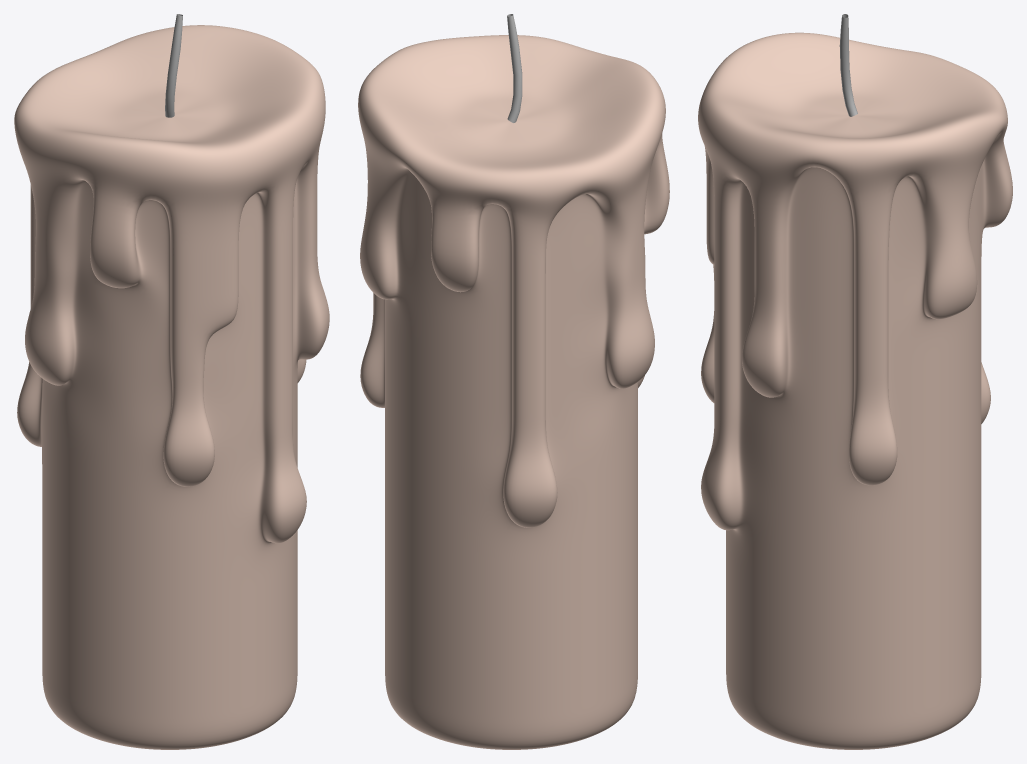
File: candle.fbx
3 renders of one model, left to right at view 1: azimuth 30°, elevation 25°; view 2: azimuth 150°, elevation 25°; view 3: azimuth 270°, elevation 25°, orthographic.
Parts seen in each view (by area): view 1: Candle, Rope; view 2: Candle, Rope; view 3: Candle, Rope.
Part boxes in pixels (x1,y1,x2,y2): Candle: (14,25,329,749); Rope: (165,14,182,117); Candle: (358,35,669,749); Rope: (507,14,522,122); Candle: (698,32,1012,749); Rope: (839,14,857,116).
Size of the model in its own units: 16.9 by 40.35 by 16.68.
